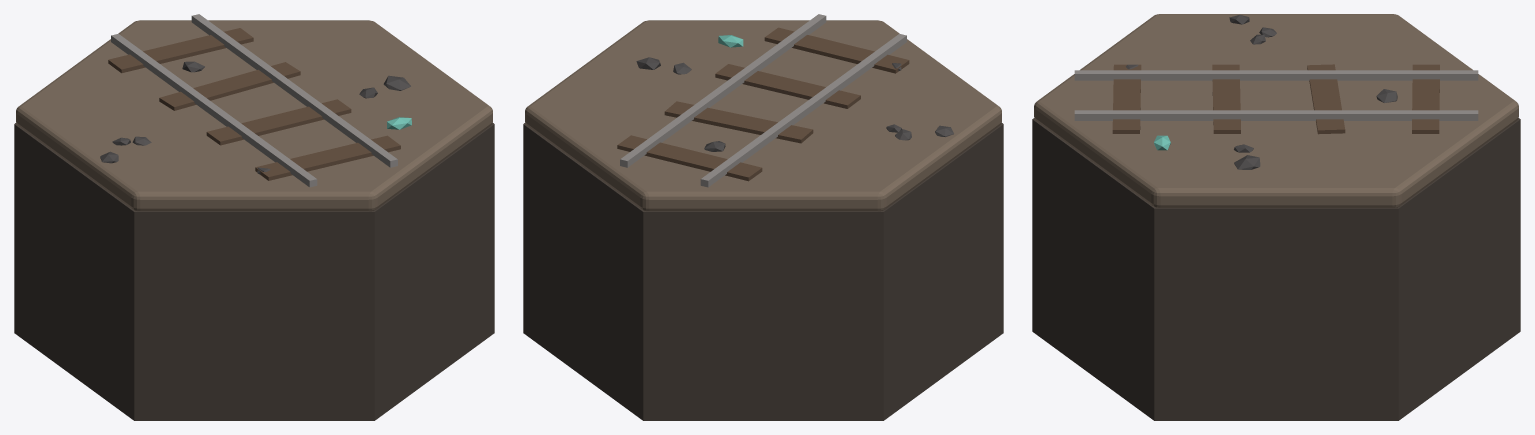
The model's file is hex_mine.glb.
3 renders of one model, left to right at view 1: azimuth 30°, elevation 25°; view 2: azimuth 150°, elevation 25°; view 3: azimuth 270°, elevation 25°, orthographic.
Parts seen in each view (by area): view 1: hex_mine; view 2: hex_mine; view 3: hex_mine.
Boxes of the visible parts, bbox=[...] form: hex_mine: bbox=[14, 14, 494, 420]; hex_mine: bbox=[523, 14, 1003, 420]; hex_mine: bbox=[1032, 14, 1520, 420].
Bounding box in the file's own units: 1.7 × 1.06 × 1.96.
